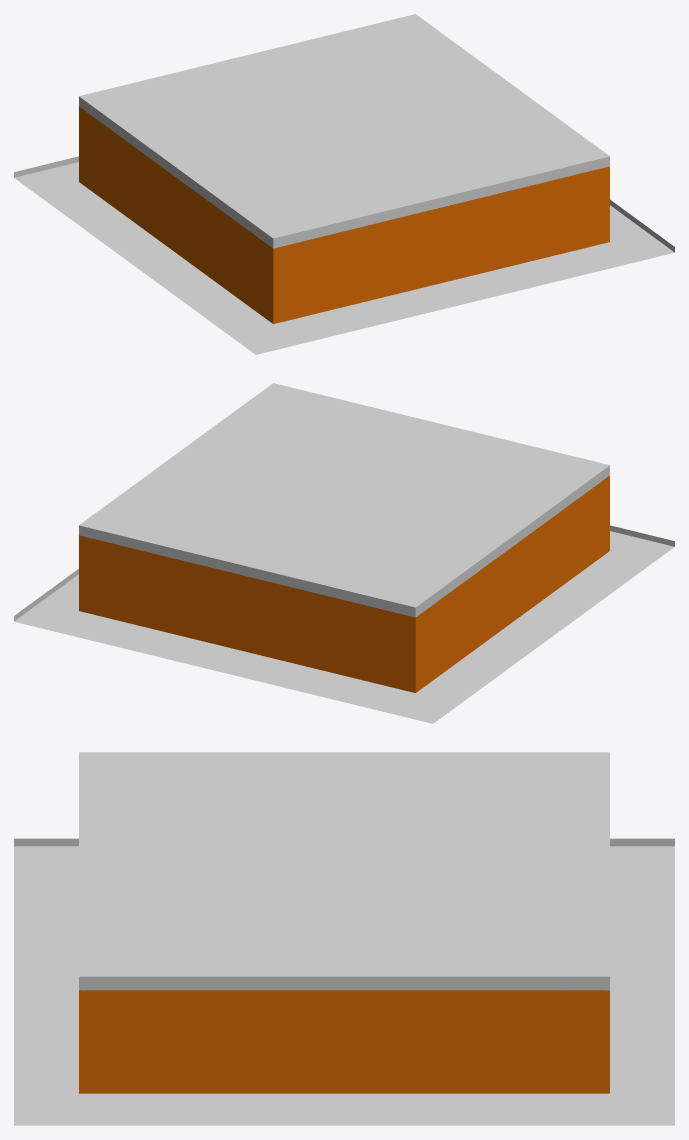
The model's file is CAKEC1layer.glb.
3 renders of one model, top to bottom at view 1: azimuth 30°, elevation 25°; view 2: azimuth 150°, elevation 25°; view 3: azimuth 270°, elevation 25°, orthographic. The views are drawn at different scales.
Parts seen in each view (by area): view 1: base bot 3; view 2: base bot 3; view 3: base bot 3.
Boxes of the visible parts, x1=… form: base bot 3: x1=14, y1=14, x2=674, y2=354; base bot 3: x1=14, y1=383, x2=674, y2=723; base bot 3: x1=14, y1=752, x2=674, y2=1125.
Size of the model in its own units: 2 by 0.4058 by 2.
